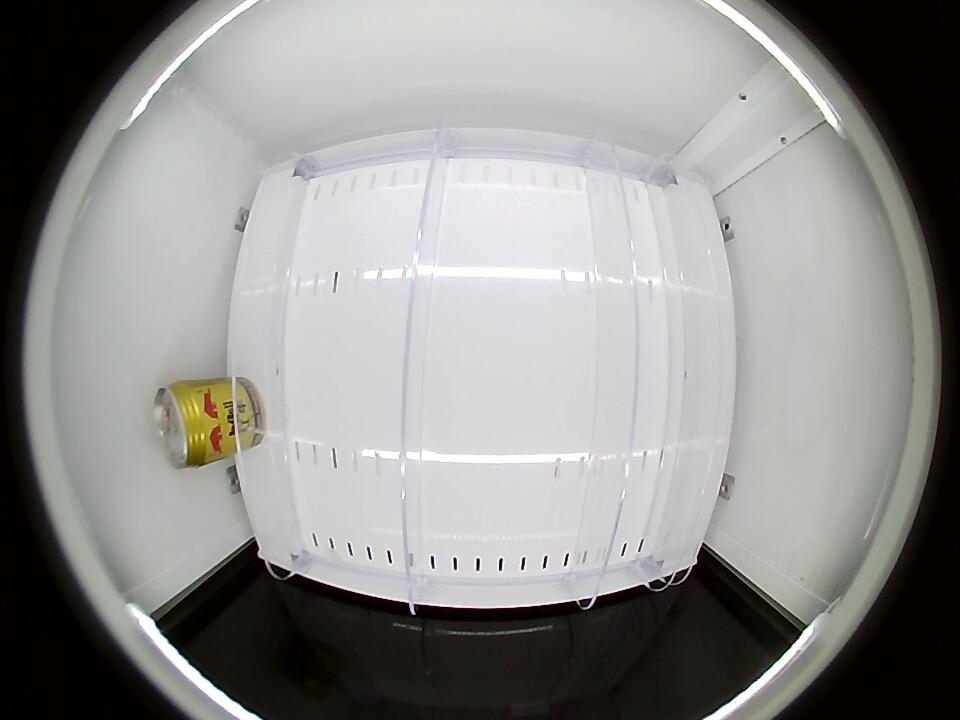hongniu2: (154, 381, 216, 469)
